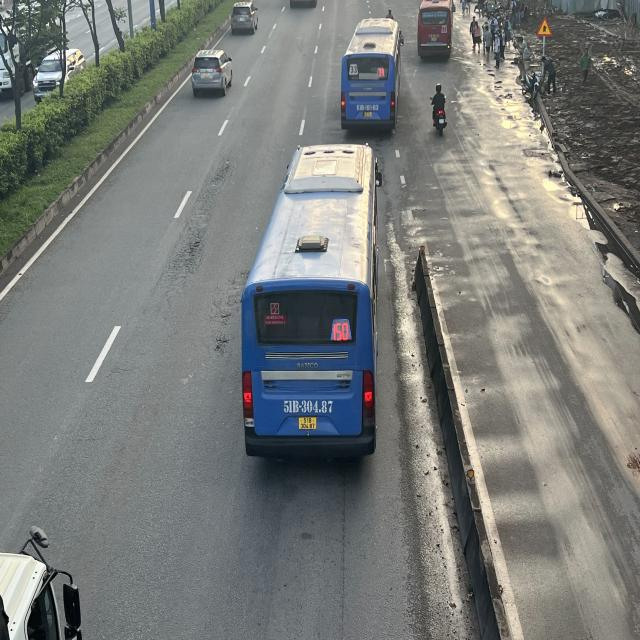car: (192, 48, 234, 95), (231, 0, 260, 32)
coach: (238, 146, 378, 461), (340, 18, 404, 133), (416, 0, 454, 56)
